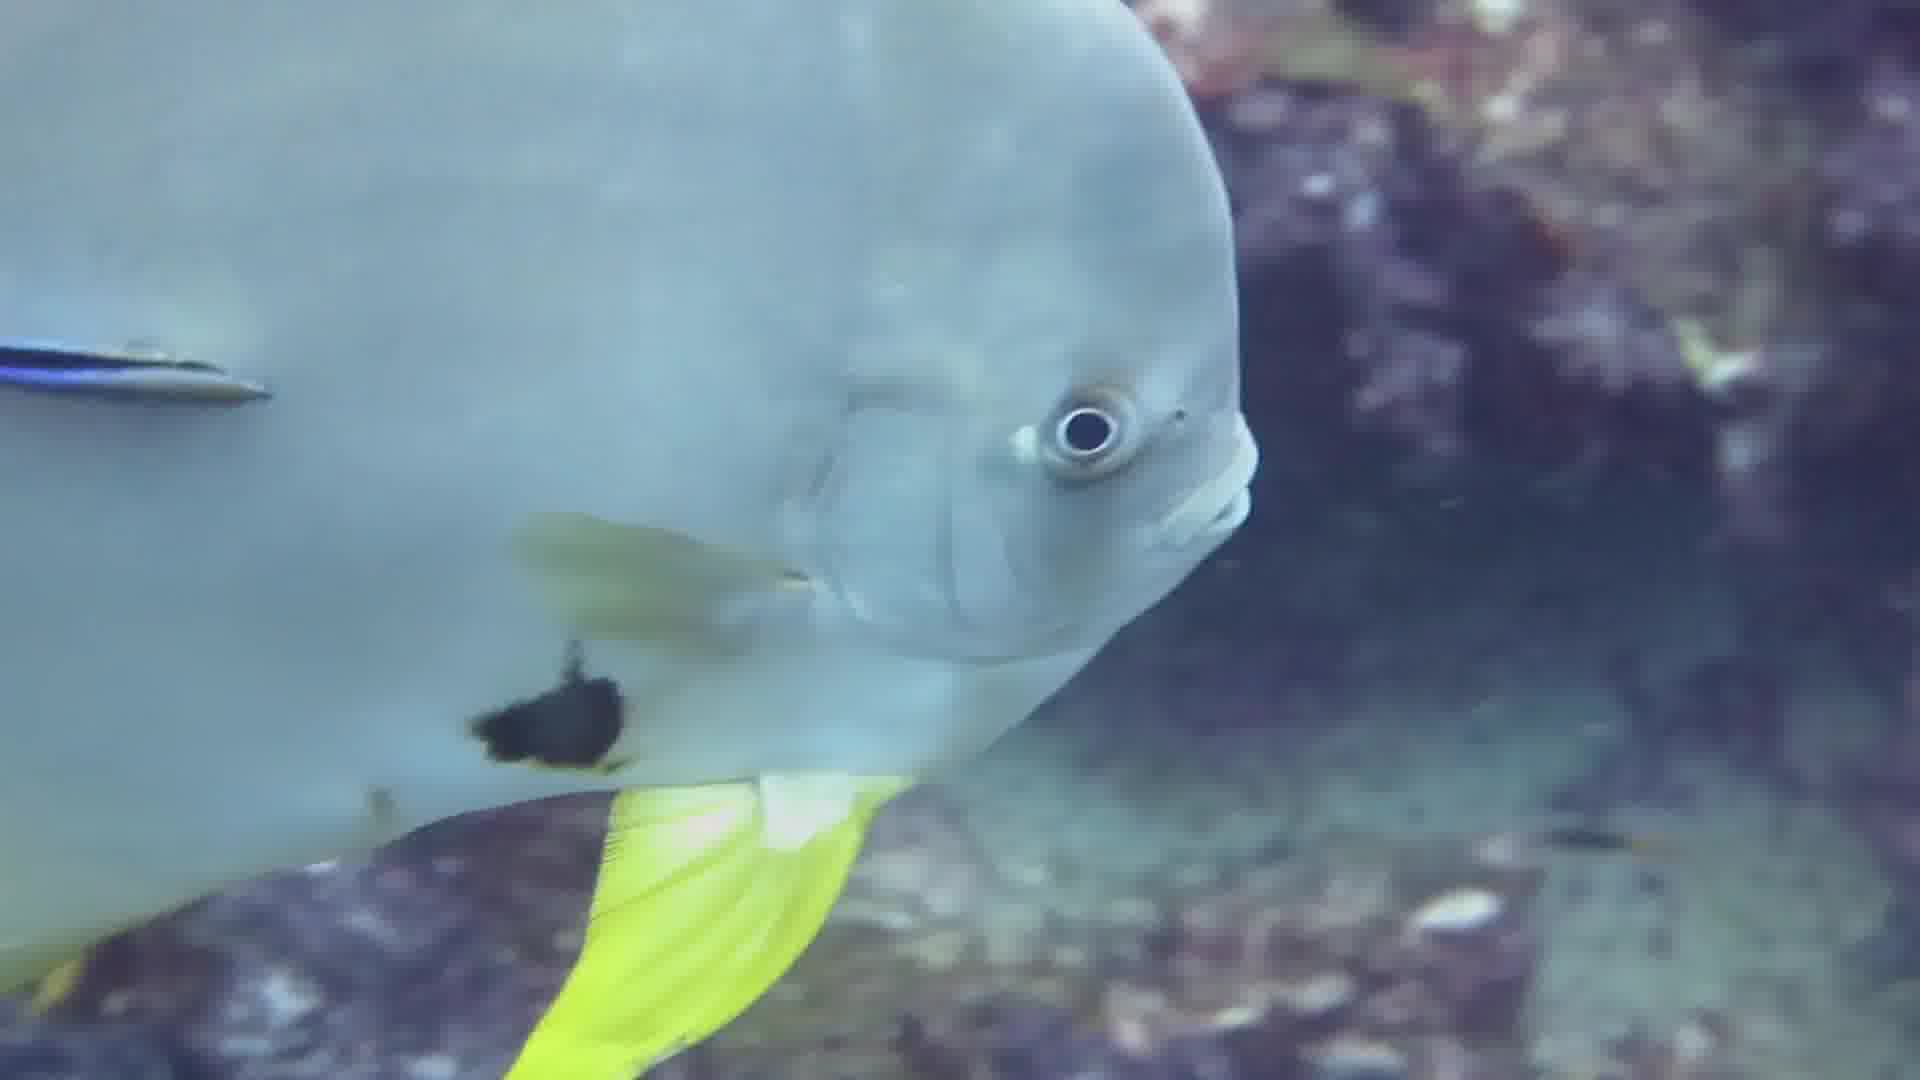Platax teira: (1, 1, 1258, 1080)
